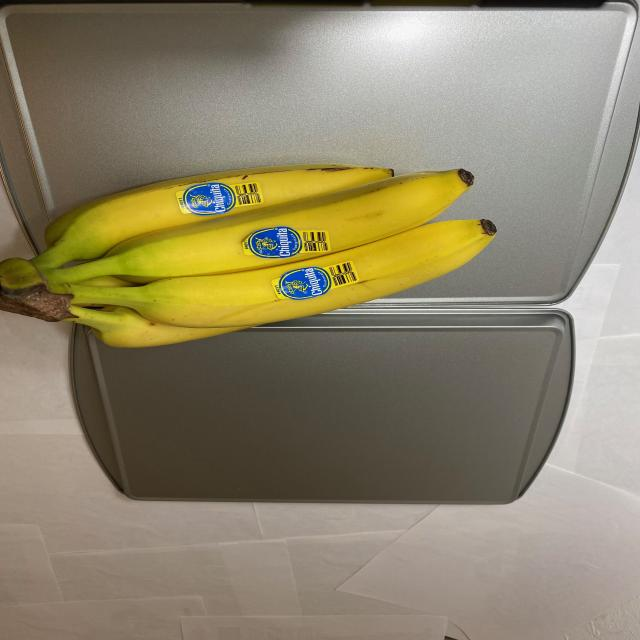banana: (14, 140, 500, 352)
